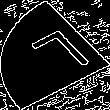L_SE: (17, 25, 93, 85)
